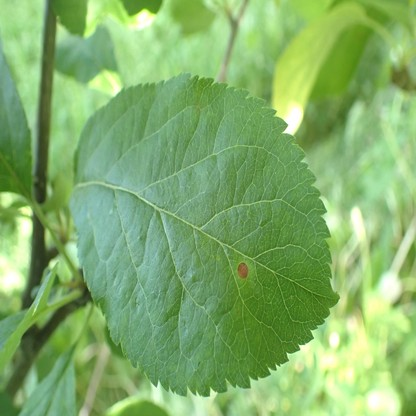frogeye_leaf_spot: (237, 261, 249, 278)
